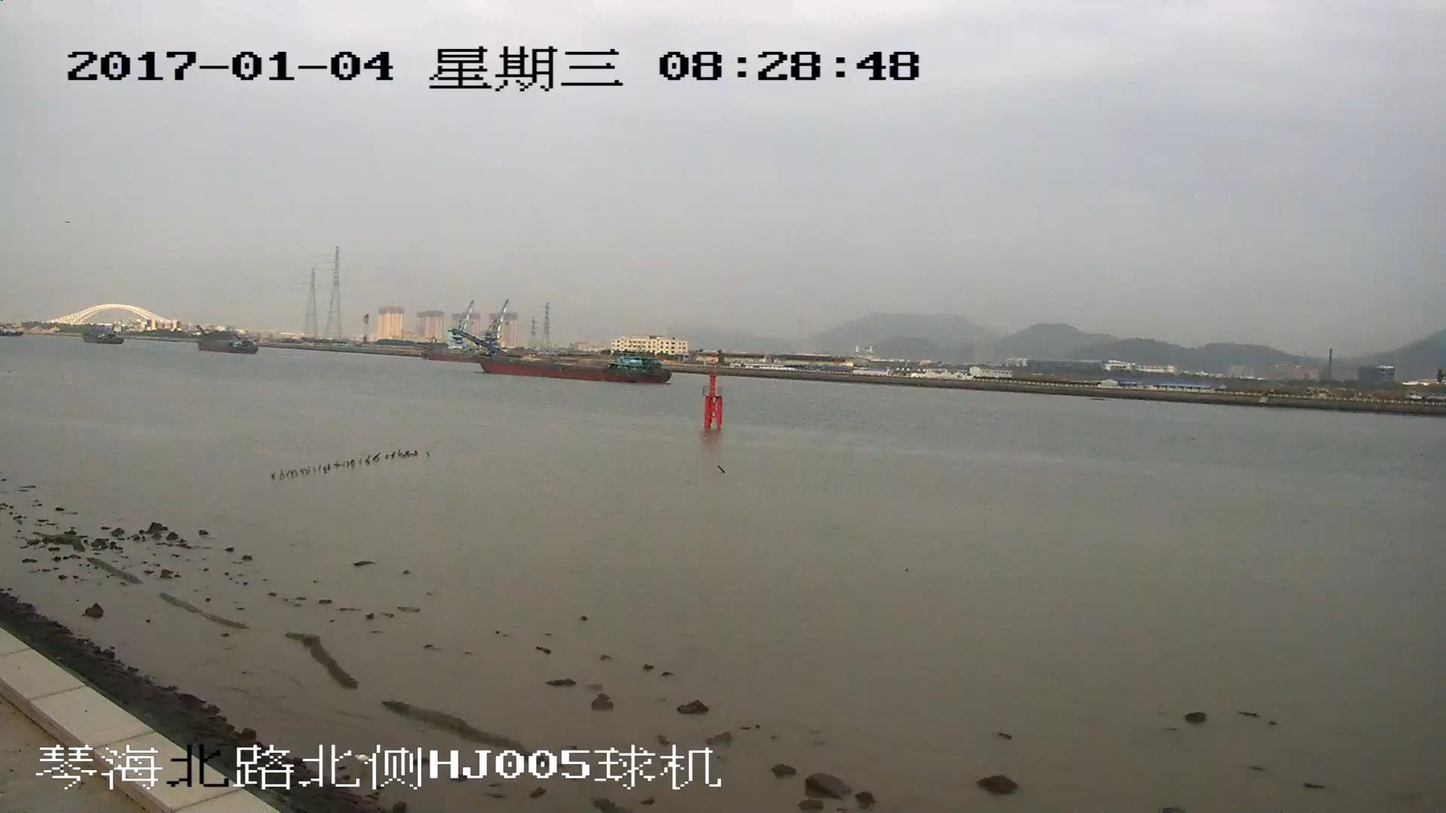bulk cargo carrier: (450, 328, 667, 383)
